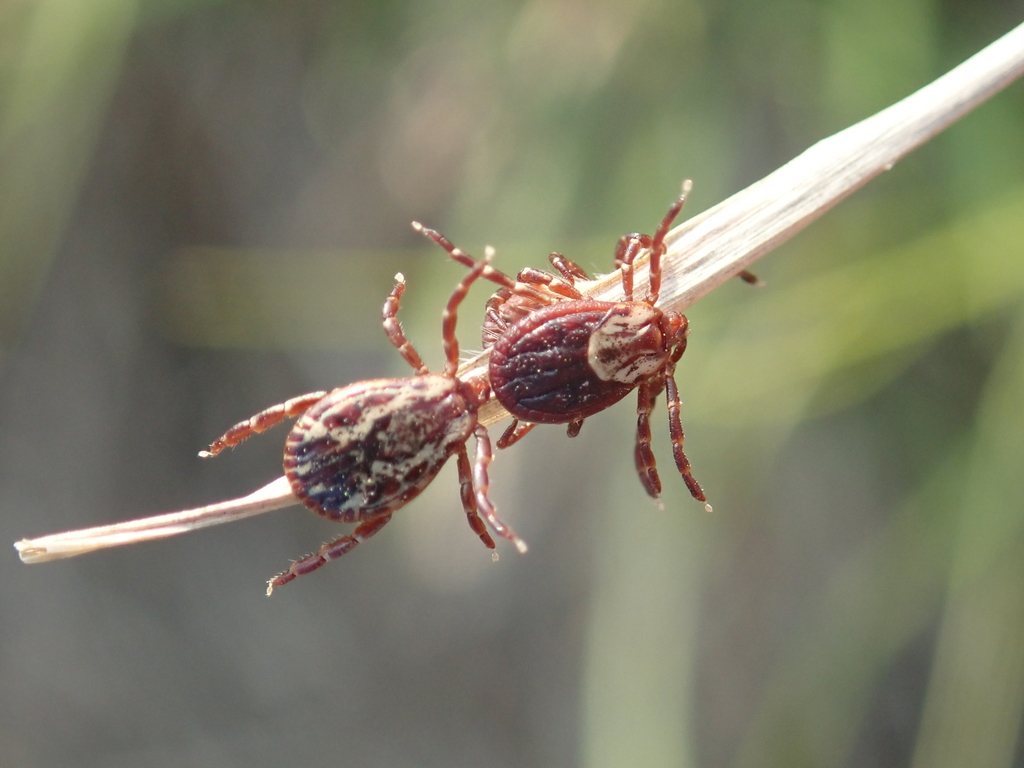garrapata: (408, 161, 781, 513), (198, 258, 529, 603)
